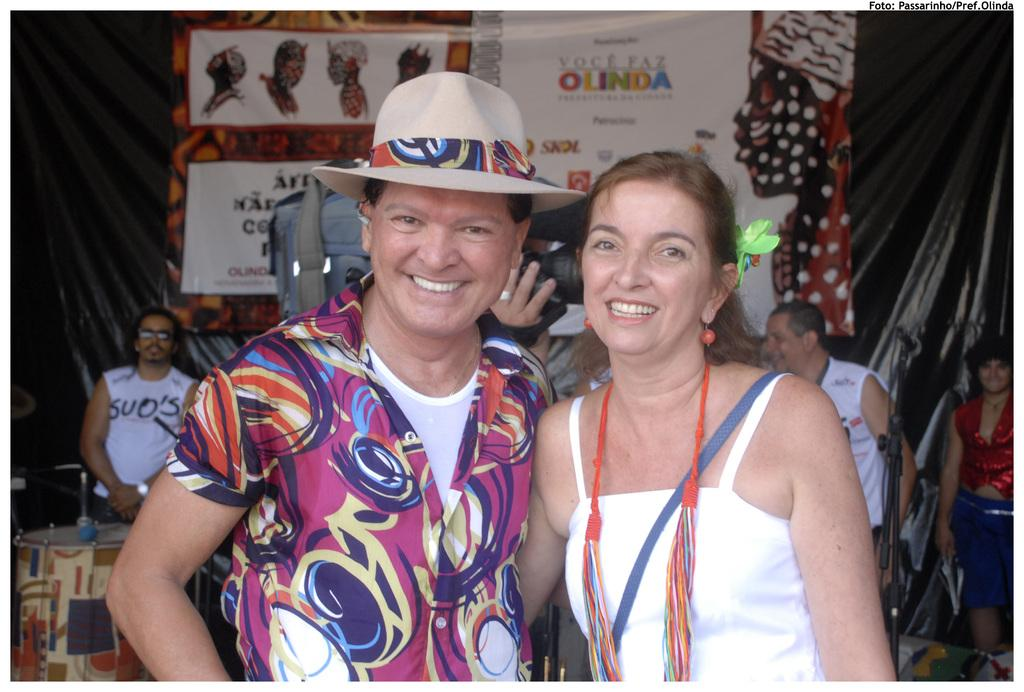Hat: (311, 71, 587, 202)
